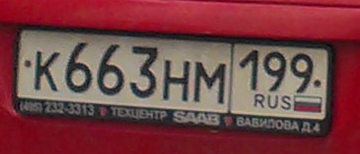character: (127, 44, 159, 100), (96, 41, 127, 98), (64, 39, 95, 94), (190, 59, 227, 105), (159, 57, 191, 101), (32, 48, 61, 93), (288, 50, 315, 96), (261, 50, 287, 92), (237, 49, 262, 92)
